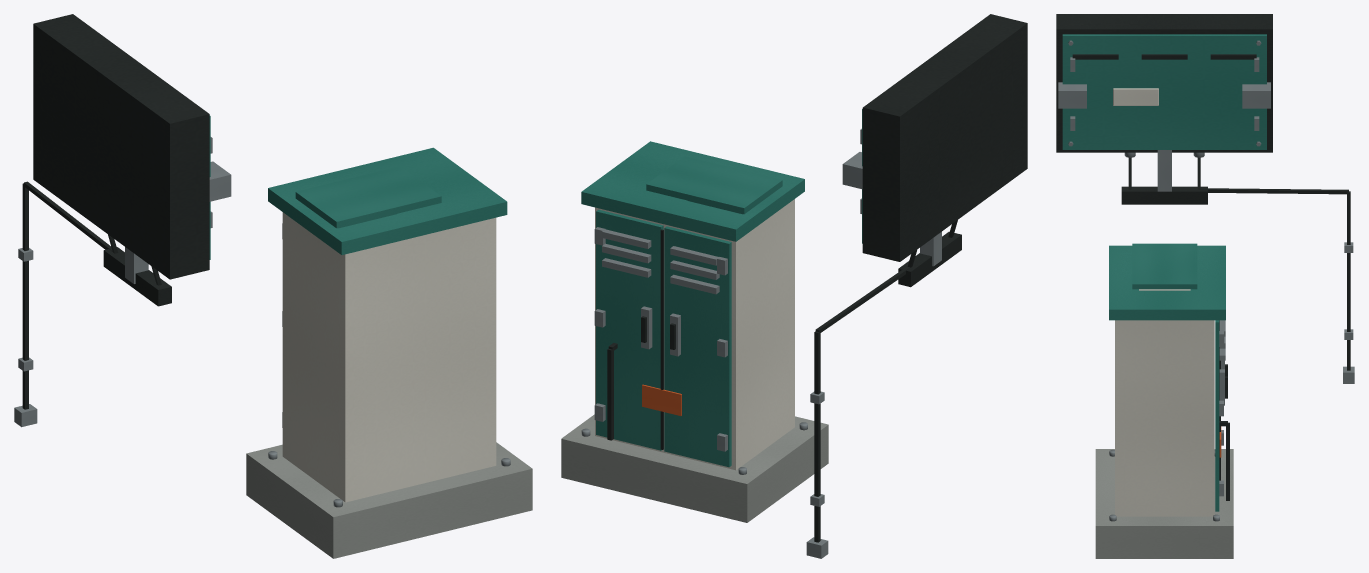
Rendered from aurel-track-signal-hardware.glb.
The picture shows the model from 3 angles, left to right: view 1: azimuth 30°, elevation 25°; view 2: azimuth 150°, elevation 25°; view 3: azimuth 270°, elevation 25°; orthographic projection. The views are drawn at different scales.
Visible parts, largest first — view 1: A08_UTILITY_LOD1_SURFACES, A08_UTILITY_LOD0_SURFACES, A08_FLAG_BACK_LOD0_SURFACES, A08_FLAG_BACK_LOD1_SURFACES, A08_SENSOR_LOD1_SURFACES, A08_SENSOR_LOD0_SURFACES; view 2: A08_UTILITY_LOD0_SURFACES, A08_UTILITY_LOD1_SURFACES, A08_FLAG_BACK_LOD0_SURFACES, A08_FLAG_BACK_LOD1_SURFACES, A08_SENSOR_LOD0_SURFACES, A08_SENSOR_LOD1_SURFACES; view 3: A08_FLAG_BACK_LOD0_SURFACES, A08_UTILITY_LOD0_SURFACES, A08_FLAG_BACK_LOD1_SURFACES, A08_UTILITY_LOD1_SURFACES, A08_SENSOR_LOD0_SURFACES, A08_SENSOR_LOD1_SURFACES.
Part boxes in pixels (<box>): A08_UTILITY_LOD1_SURFACES: <box>246,147,532,558</box>; A08_UTILITY_LOD0_SURFACES: <box>253,150,527,551</box>; A08_FLAG_BACK_LOD0_SURFACES: <box>15,16,230,425</box>; A08_FLAG_BACK_LOD1_SURFACES: <box>14,14,231,427</box>; A08_SENSOR_LOD1_SURFACES: <box>295,166,441,228</box>; A08_SENSOR_LOD0_SURFACES: <box>297,168,438,227</box>; A08_UTILITY_LOD0_SURFACES: <box>565,144,826,517</box>; A08_UTILITY_LOD1_SURFACES: <box>561,141,828,522</box>; A08_FLAG_BACK_LOD0_SURFACES: <box>808,16,1021,556</box>; A08_FLAG_BACK_LOD1_SURFACES: <box>806,14,1027,558</box>; A08_SENSOR_LOD0_SURFACES: <box>648,158,775,213</box>; A08_SENSOR_LOD1_SURFACES: <box>646,156,782,214</box>; A08_FLAG_BACK_LOD0_SURFACES: <box>1059,15,1353,382</box>; A08_UTILITY_LOD0_SURFACES: <box>1100,247,1229,555</box>; A08_FLAG_BACK_LOD1_SURFACES: <box>1056,14,1354,383</box>; A08_UTILITY_LOD1_SURFACES: <box>1095,245,1233,558</box>; A08_SENSOR_LOD0_SURFACES: <box>1134,249,1194,287</box>; A08_SENSOR_LOD1_SURFACES: <box>1132,243,1197,290</box>.
Size of the model in its own units: 1.85 by 2.27 by 1.55.
1 material, 1 textured.
